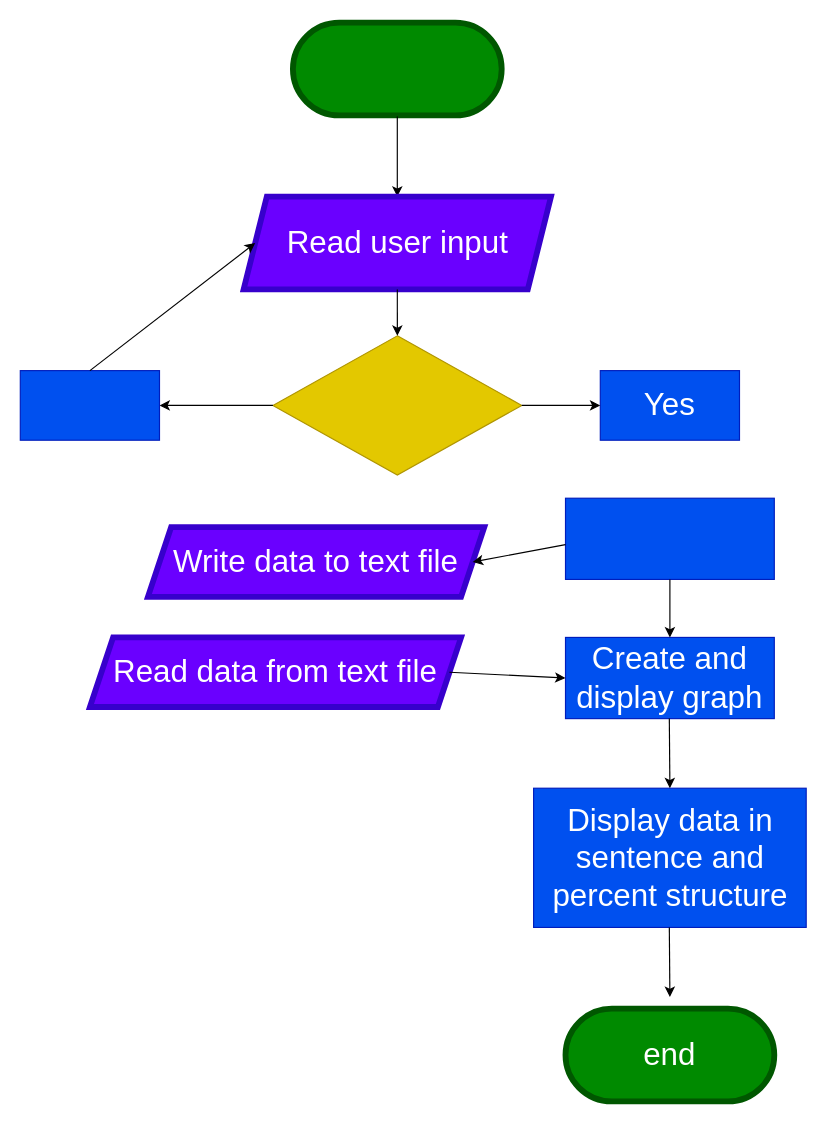
This 827x1124 diagram has some shape labels left out. The shapes that lost their labels are listed below. From the top down, each one's centre as x and y in pixels, then its label:
At [396,68]: "start".
At [89,404]: "No".
At [397,405]: "Is input valid".
At [669,538]: "Calculate percentages".
